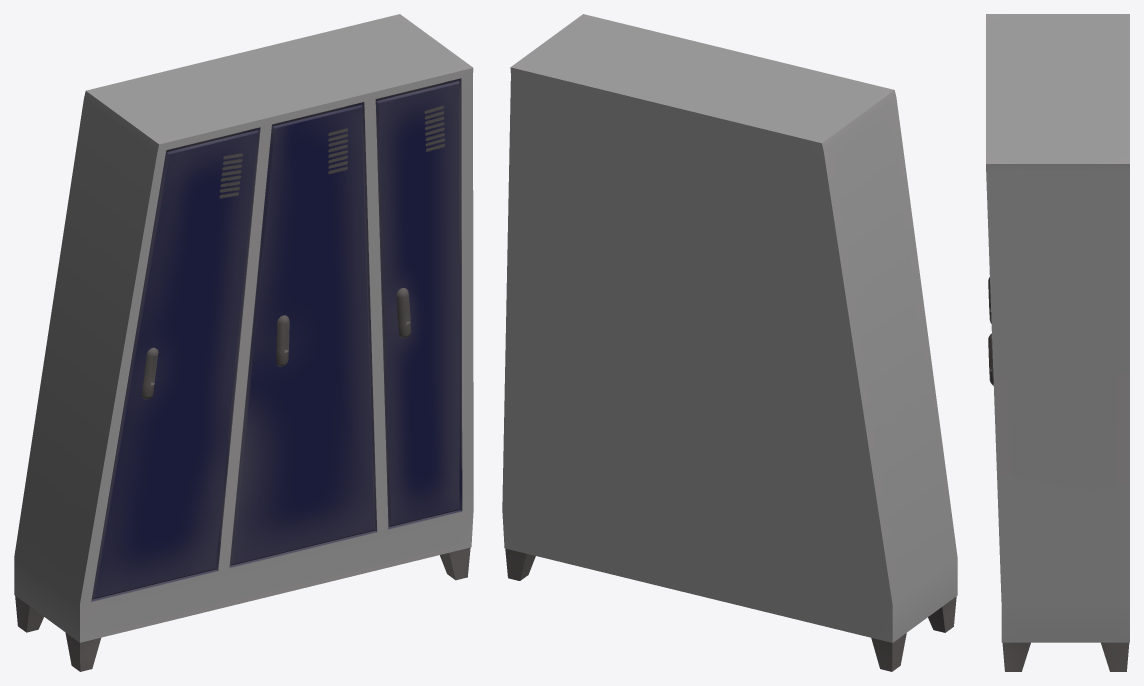
The model's file is locker_02_V3.FBX.
The picture shows the model from 3 angles, left to right: view 1: azimuth 30°, elevation 25°; view 2: azimuth 150°, elevation 25°; view 3: azimuth 270°, elevation 25°; orthographic projection. The views are drawn at different scales.
Parts seen in each view (by area): view 1: MESH_locker_02_V3; view 2: MESH_locker_02_V3; view 3: MESH_locker_02_V3.
Part boxes in pixels (box(x1,y1,x2,y2)): MESH_locker_02_V3: box(14, 14, 473, 671); MESH_locker_02_V3: box(502, 14, 957, 671); MESH_locker_02_V3: box(986, 14, 1129, 671).
Size of the model in its own units: 139 by 175 by 45.
